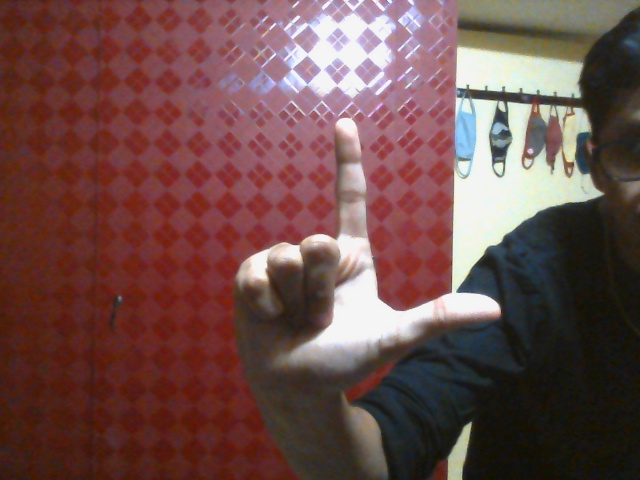L: (231, 117, 501, 385)
